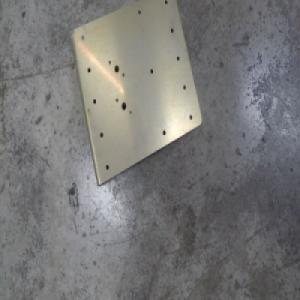MetalSheet: (67, 0, 203, 190)
